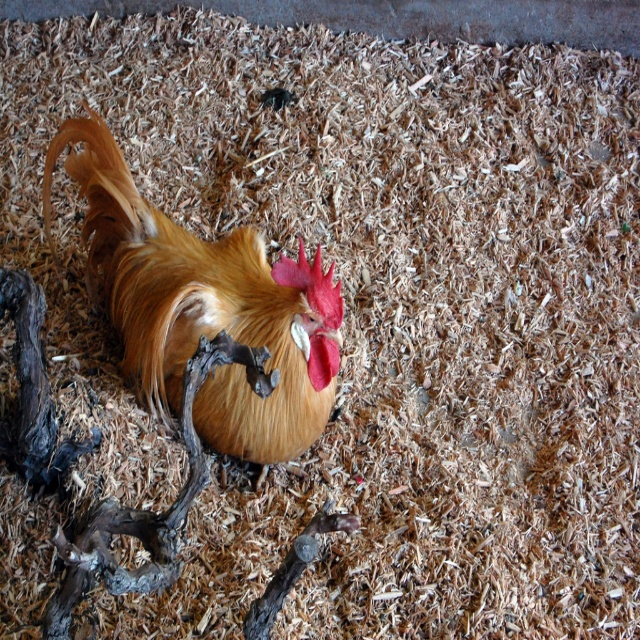Chicken: (35, 98, 345, 447)
